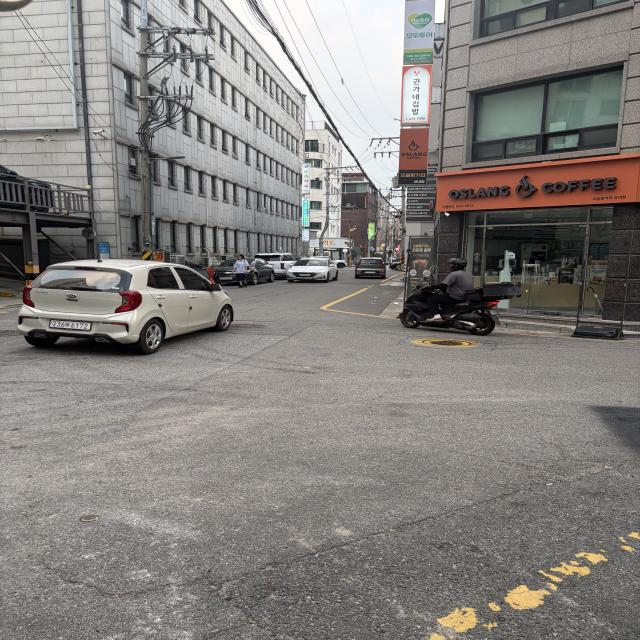car: (15, 238, 261, 374)
motorcycle: (372, 242, 547, 351)
